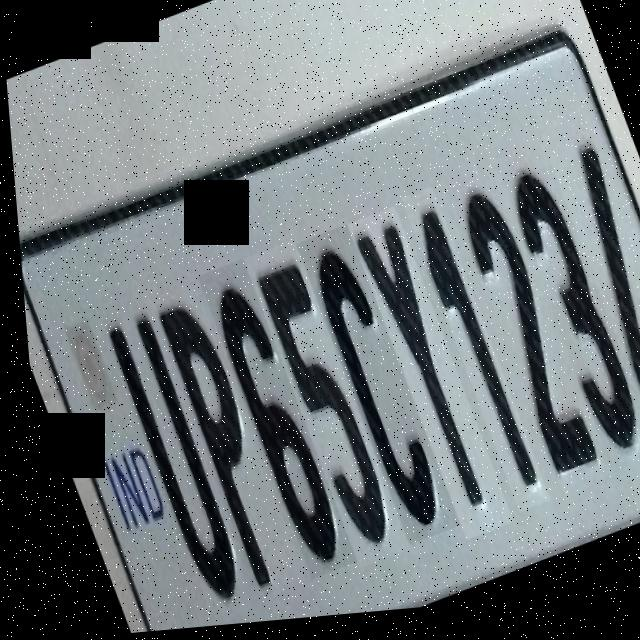1: (396, 187, 541, 527)
3: (499, 168, 640, 494)
4: (524, 87, 640, 480)
5: (236, 238, 401, 580)
6: (191, 256, 348, 590)
C: (291, 224, 451, 557)
P: (142, 280, 296, 604)
U: (90, 297, 247, 622)
Y: (342, 206, 504, 554)
